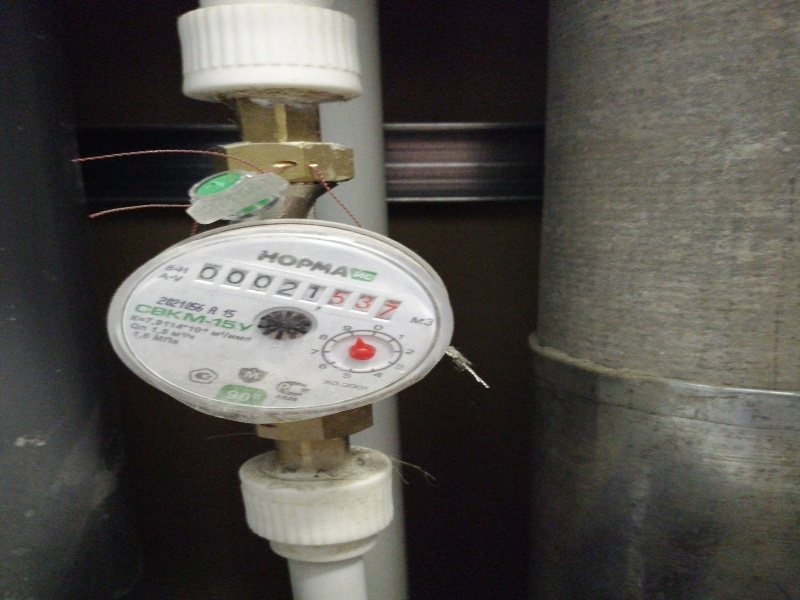dial: (200, 256, 386, 309)
